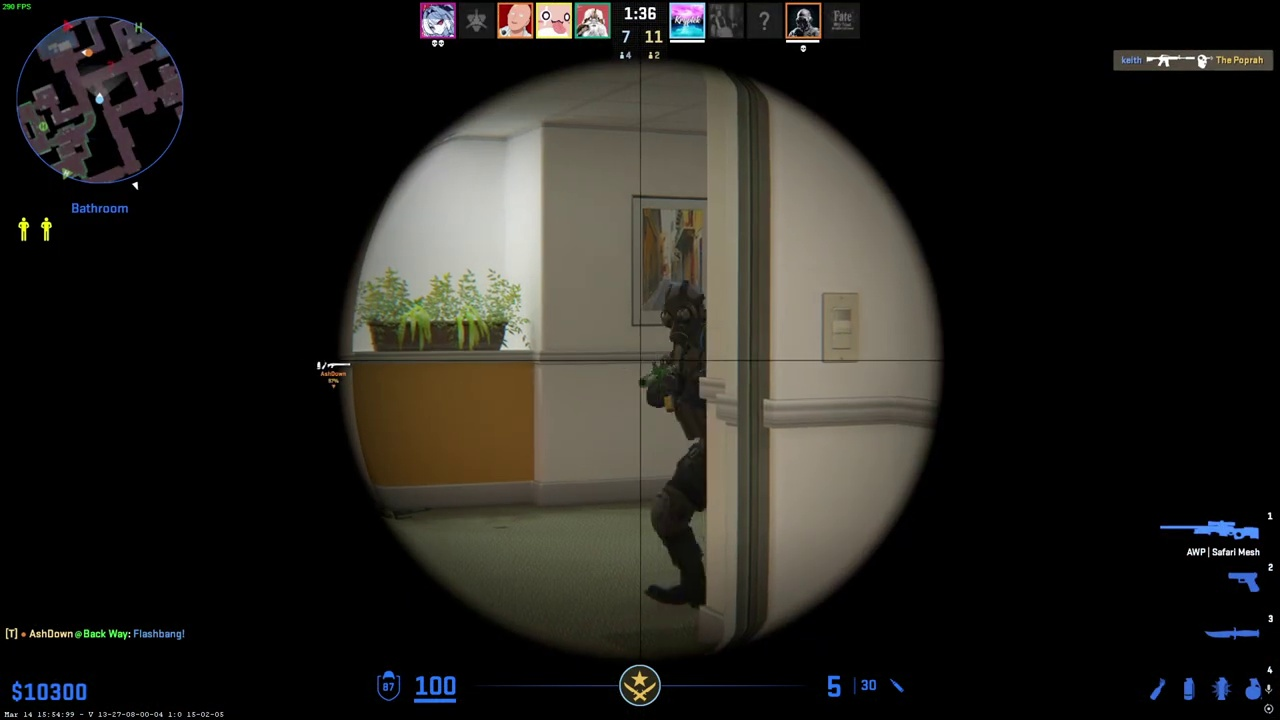CT: (644, 281, 708, 607)
